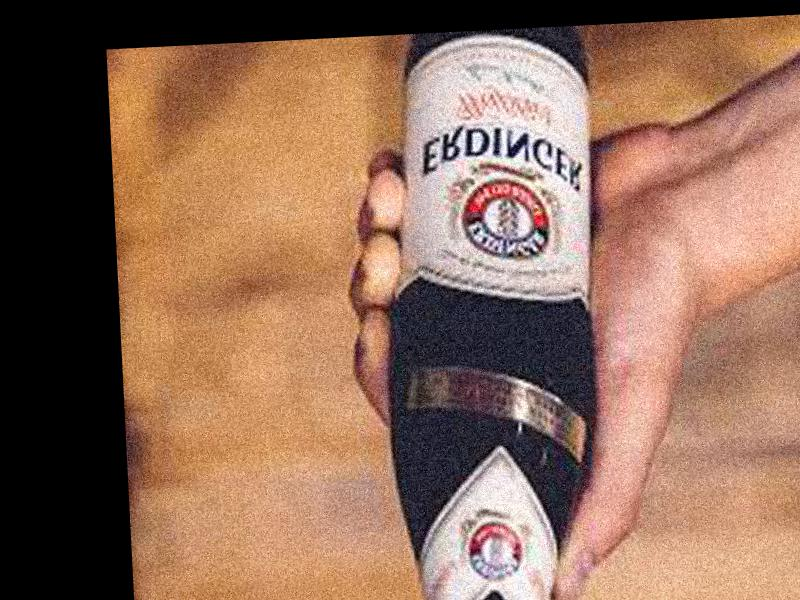Beer: (371, 24, 619, 600)
